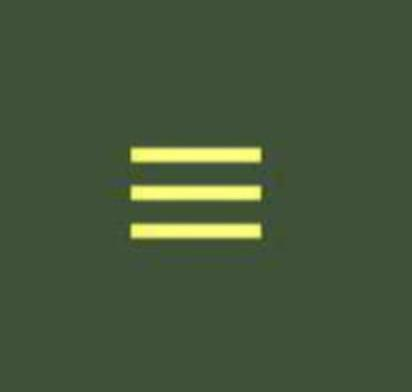ImgButton: (1, 1, 411, 391)
